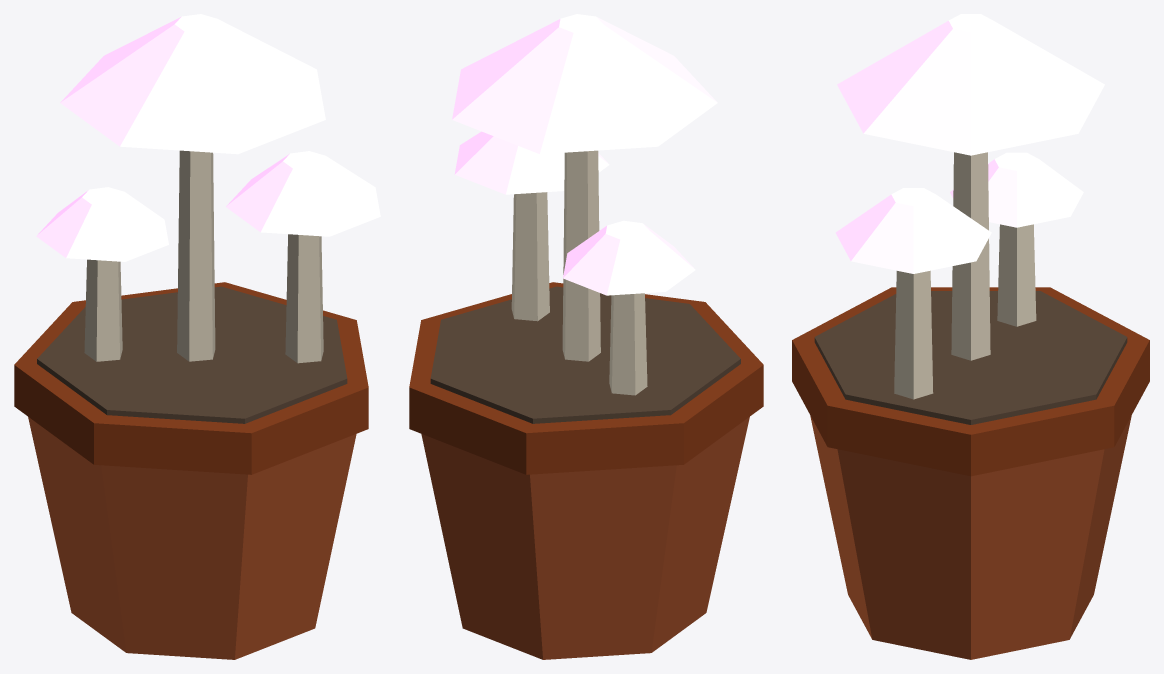
Rendered from potted_glowcap.glb.
The picture shows the model from 3 angles, left to right: view 1: azimuth 30°, elevation 25°; view 2: azimuth 150°, elevation 25°; view 3: azimuth 270°, elevation 25°; orthographic projection.
Visible parts, largest first — view 1: potted_glowcap; view 2: potted_glowcap; view 3: potted_glowcap.
Part boxes in pixels (x1,y1,x2,y2): potted_glowcap: (14, 14, 380, 659); potted_glowcap: (409, 14, 763, 659); potted_glowcap: (792, 14, 1149, 659).
Bounding box in the file's own units: 0.3042 × 0.562 × 0.312.
